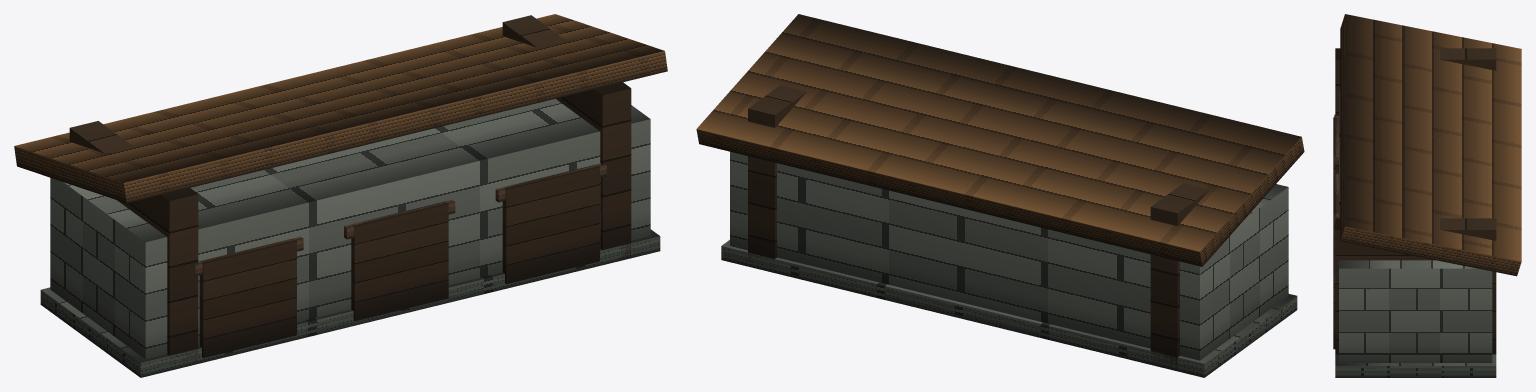
Rendered from stable.gltf.
The picture shows the model from 3 angles, left to right: view 1: azimuth 30°, elevation 25°; view 2: azimuth 150°, elevation 25°; view 3: azimuth 270°, elevation 25°; orthographic projection. The views are drawn at different scales.
Parts seen in each view (by area): view 1: stable; view 2: stable; view 3: stable.
Part boxes in pixels (box(x1,y1,x2,y2)): stable: box(14, 14, 667, 377); stable: box(696, 14, 1304, 377); stable: box(1333, 14, 1521, 377).
Bounding box in the file's own units: 2.1 × 0.7164 × 0.7864.
Materials: 1 (1 with a texture image).
